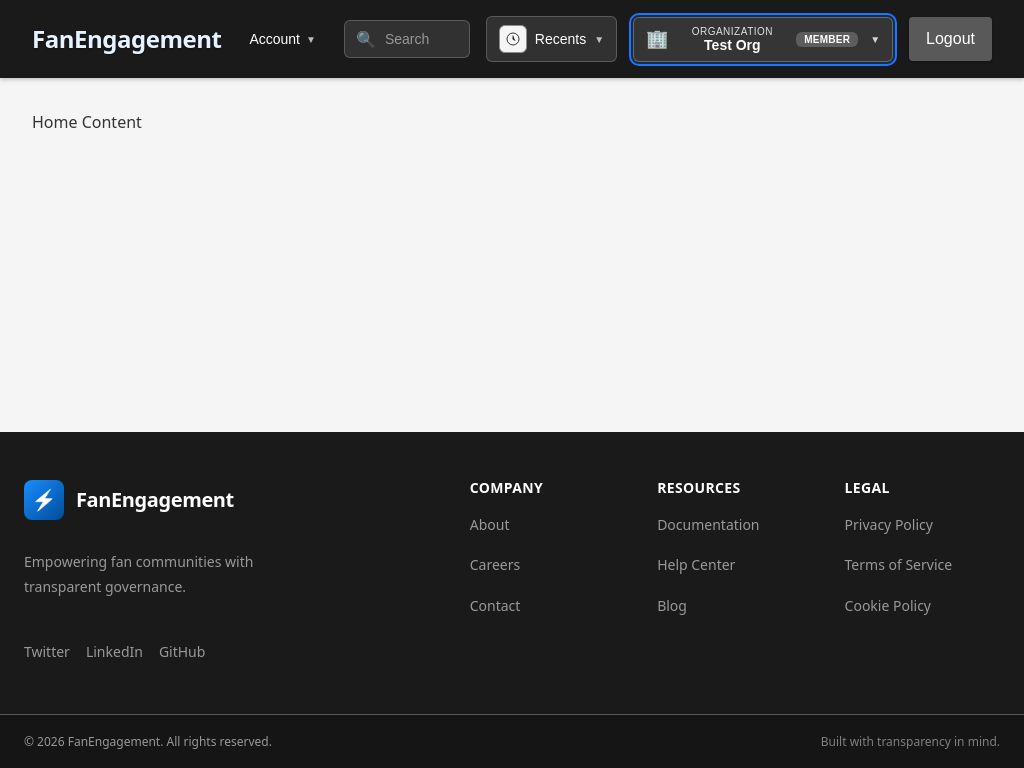
Scenario: Layout › Navigation visibility for regular members › shows only My Account and My Organizations for a regular member
Click the button with test id "nav-dropdown-account". click: (283, 39)
box: top-left (237, 19), bottom-right (328, 59)
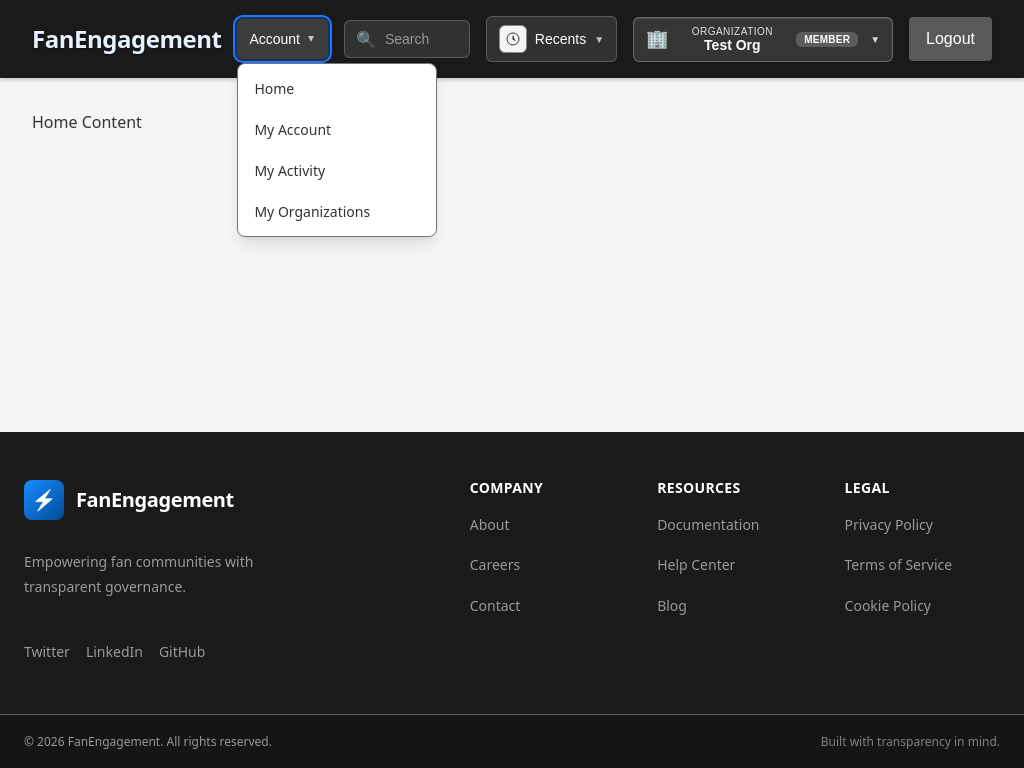
Expected: the button "Logout" is shown, top-left (909, 17), bottom-right (992, 61)
Result: the menu item with test id "nav-myAccount" is shown at top-left (254, 120), bottom-right (331, 139)
Result: the menu item with test id "nav-myOrganizations" is shown at top-left (254, 202), bottom-right (370, 221)
